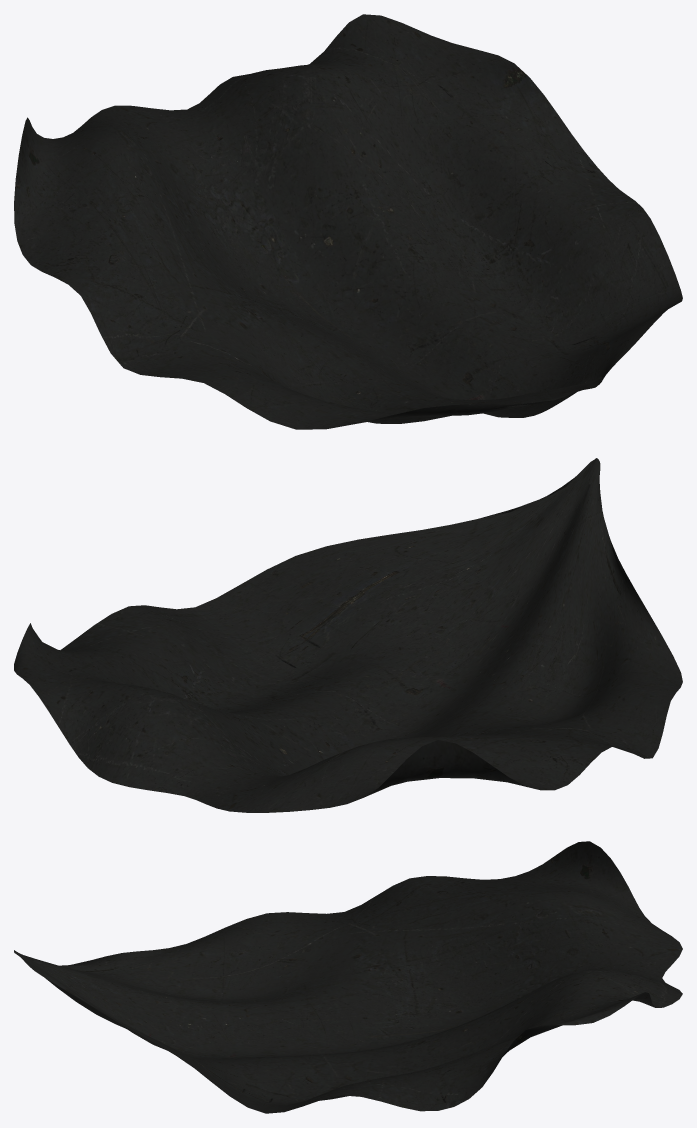
File: petal_flower_rose.glb
3 renders of one model, top to bottom at view 1: azimuth 30°, elevation 25°; view 2: azimuth 150°, elevation 25°; view 3: azimuth 270°, elevation 25°, orthographic. The views are drawn at different scales.
Visible parts, largest first — view 1: Plane; view 2: Plane; view 3: Plane.
Boxes of the visible parts, x1=… form: Plane: x1=14, y1=14, x2=682, y2=429; Plane: x1=14, y1=458, x2=682, y2=812; Plane: x1=14, y1=841, x2=682, y2=1113.
Size of the model in its own units: 1.45 by 0.4271 by 1.95.
1 material, 1 textured.
